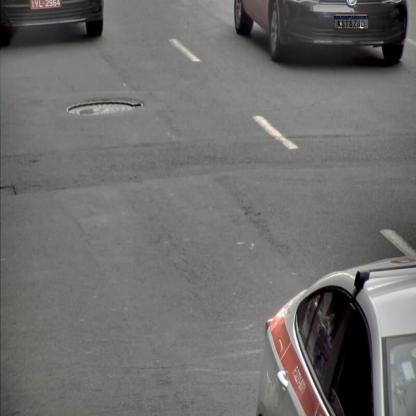PlacaM: (334, 16, 369, 29)
